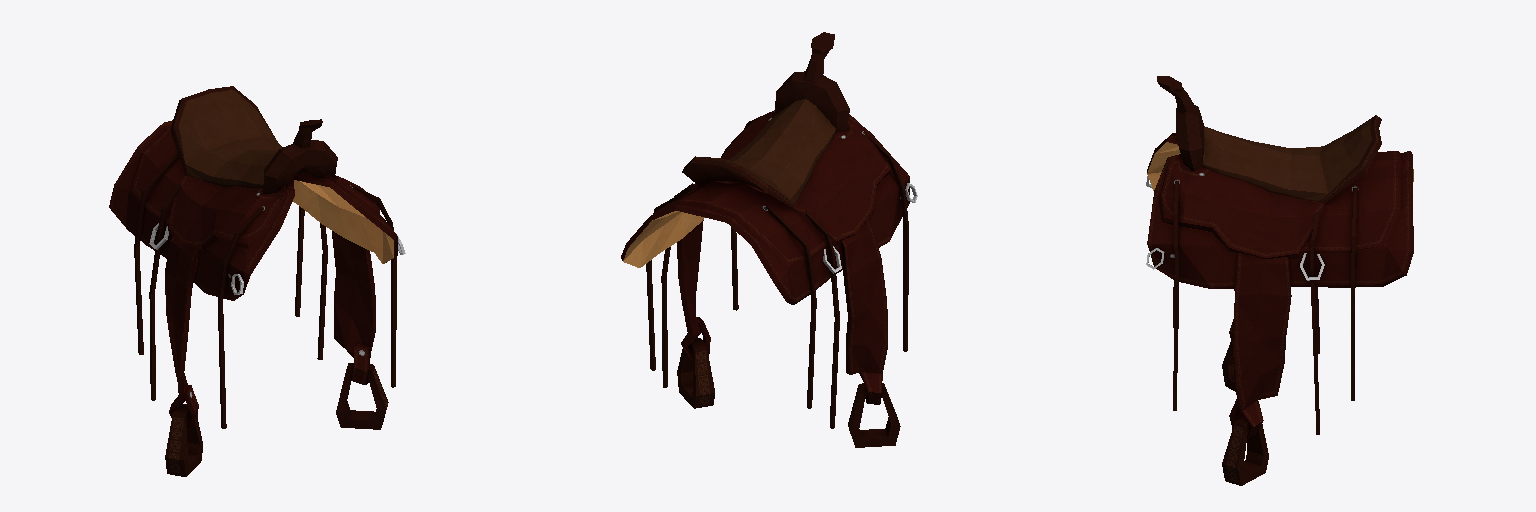
3 views of the same model, side by side, from view 1: azimuth 30°, elevation 25°; view 2: azimuth 150°, elevation 25°; view 3: azimuth 270°, elevation 25° (orthographic).
Parts seen in each view (by area): view 1: Saddle_Mesh; view 2: Saddle_Mesh; view 3: Saddle_Mesh.
Boxes of the visible parts, box(x1,y1,x2,y2) form: Saddle_Mesh: box(109, 86, 405, 476); Saddle_Mesh: box(621, 32, 917, 447); Saddle_Mesh: box(1146, 76, 1413, 485).
Bounding box in the file's own units: 2.42 × 3.67 × 2.51.
1 materials, 1 textured.